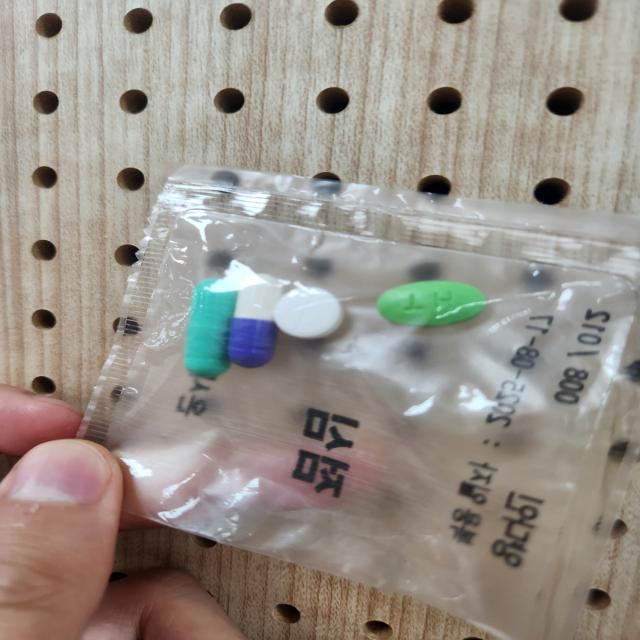러키펜정: (274, 286, 345, 343)
씨엠지세파클러캡슐: (228, 280, 283, 371)
에르도캡슐: (185, 281, 238, 384)
휴티렌정: (377, 282, 490, 329)
